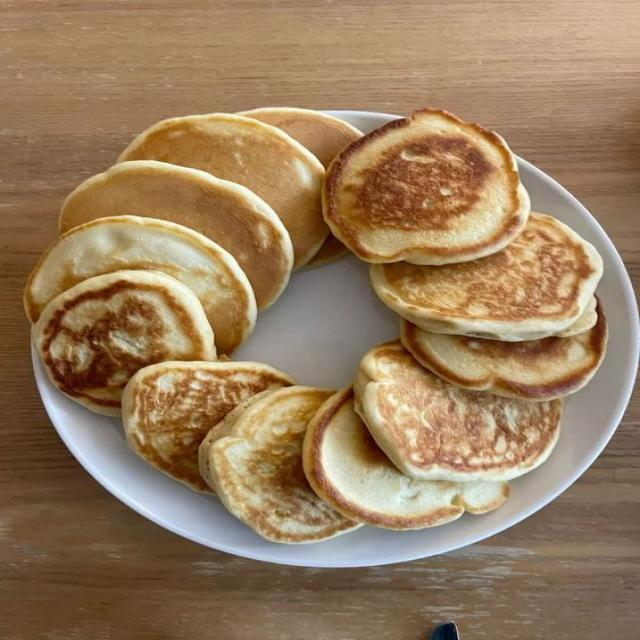pancake: (60, 161, 293, 310), (119, 114, 328, 268), (323, 110, 530, 265), (24, 216, 255, 353), (355, 341, 562, 482), (371, 214, 602, 340), (304, 388, 509, 529), (32, 271, 215, 415), (202, 387, 360, 543), (122, 362, 294, 490), (402, 302, 608, 400), (239, 108, 362, 168), (238, 108, 362, 167), (555, 296, 597, 337), (306, 235, 348, 268)
